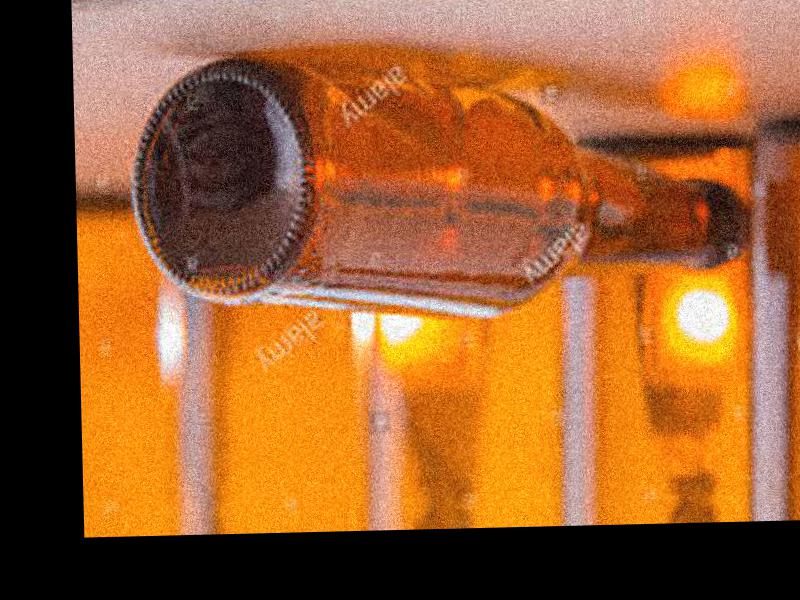Beer: (127, 33, 741, 329)
